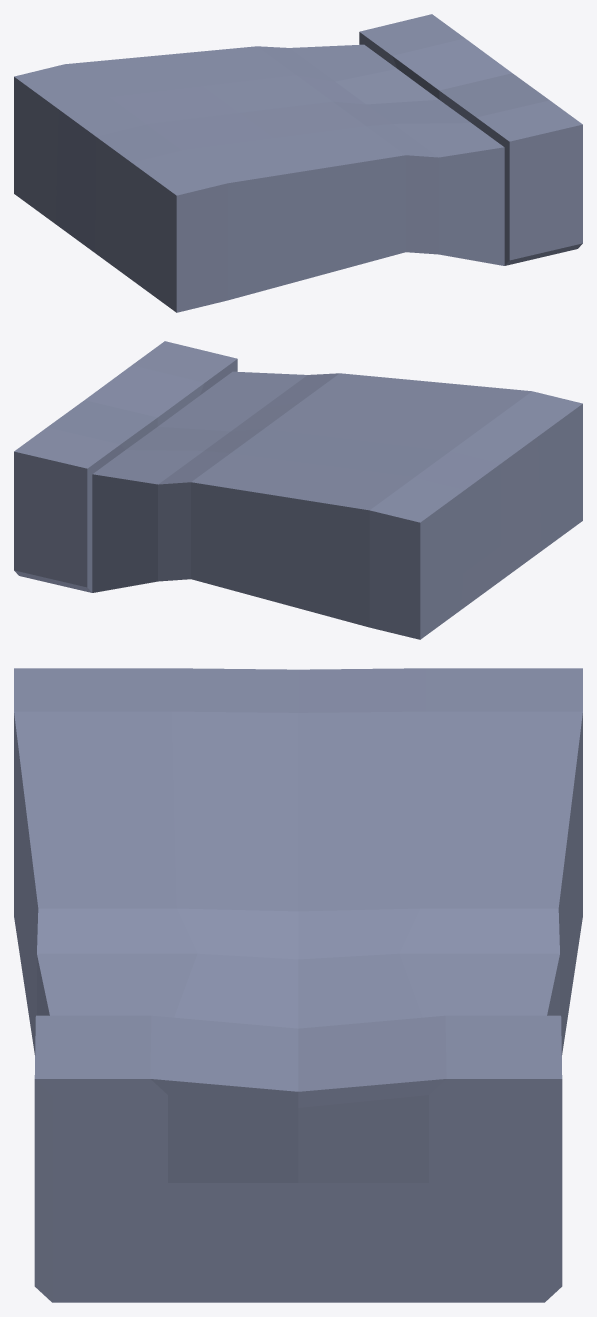
File: buntut1.fbx
3 views of the same model, one above another, from view 1: azimuth 30°, elevation 25°; view 2: azimuth 150°, elevation 25°; view 3: azimuth 270°, elevation 25° (orthographic). The views are drawn at different scales.
Parts seen in each view (by area): view 1: buntut; view 2: buntut; view 3: buntut.
Boxes of the visible parts, left/top/right/bottom form: buntut: left=14, top=14, right=582, bottom=312; buntut: left=14, top=341, right=582, bottom=639; buntut: left=14, top=668, right=582, bottom=1302.
Bounding box in the file's own units: 168 × 62.31 × 114.
